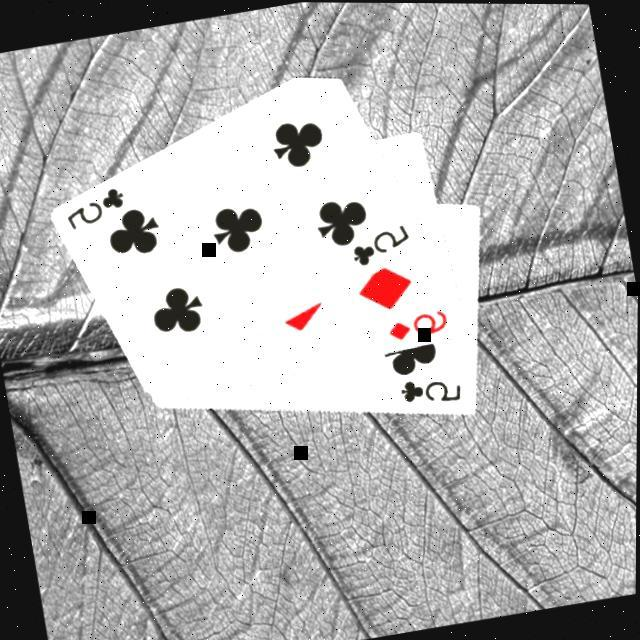5C: (58, 182, 130, 235), (344, 219, 415, 271), (394, 368, 464, 414)
6D: (381, 306, 451, 346)
